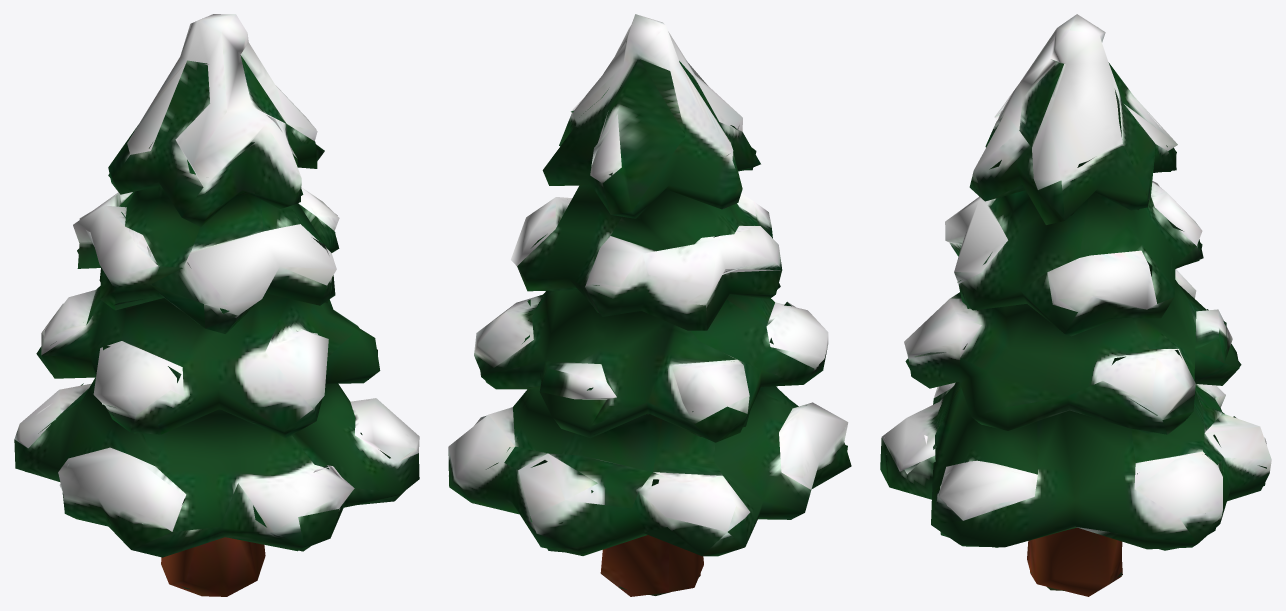
File: lg-snow-pine.glb
3 renders of one model, left to right at view 1: azimuth 30°, elevation 25°; view 2: azimuth 150°, elevation 25°; view 3: azimuth 270°, elevation 25°, orthographic.
Visible parts, largest first — view 1: geometry_0; view 2: geometry_0; view 3: geometry_0.
Boxes of the visible parts, box(x1,y1,x2,y2) form: geometry_0: box(14, 14, 419, 596); geometry_0: box(448, 14, 851, 596); geometry_0: box(880, 14, 1271, 596).
Bounding box in the file's own units: 0.5719 × 1 × 0.6352.
1 material, 1 textured.
